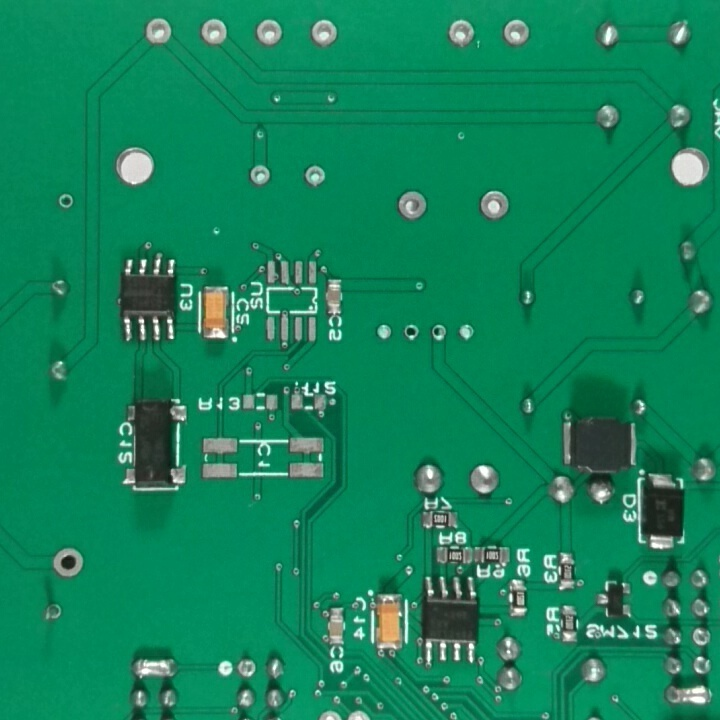F: (475, 186, 513, 223), (51, 543, 87, 580), (394, 186, 430, 223), (309, 12, 340, 52), (446, 15, 479, 52), (499, 18, 534, 52), (253, 16, 287, 49), (199, 15, 230, 49), (144, 15, 172, 51), (302, 161, 328, 191), (248, 162, 273, 188), (236, 656, 259, 683), (40, 600, 63, 626), (55, 189, 78, 213), (692, 625, 713, 651), (373, 321, 394, 342), (458, 322, 479, 343), (401, 321, 421, 343), (431, 323, 448, 344)
P: (660, 679, 715, 711), (130, 652, 181, 681)
